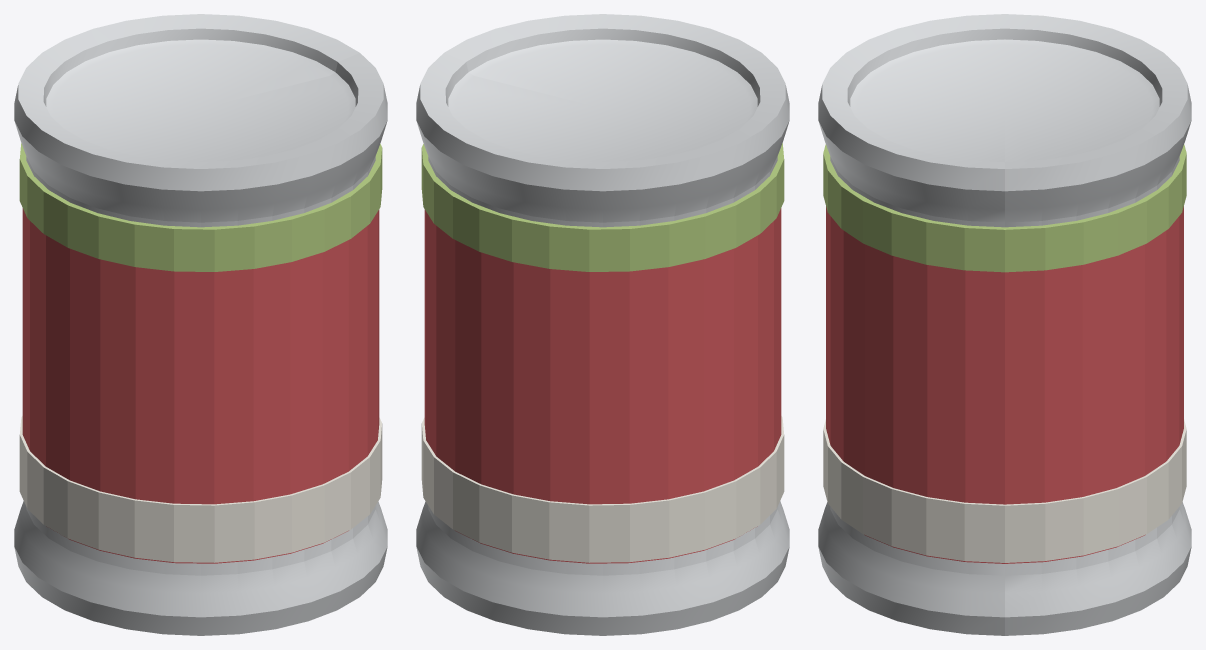
Rendered from fresh-produce-and-groceries-chopped-tomatoes-tin-33d9c94e__24432.glb.
The picture shows the model from 3 angles, left to right: view 1: azimuth 30°, elevation 25°; view 2: azimuth 150°, elevation 25°; view 3: azimuth 270°, elevation 25°; orthographic projection.
Visible parts, largest first — view 1: chopped-tomatoes-tin; view 2: chopped-tomatoes-tin; view 3: chopped-tomatoes-tin.
Part boxes in pixels (x1=…): chopped-tomatoes-tin: x1=14, y1=14, x2=387, y2=635; chopped-tomatoes-tin: x1=416, y1=14, x2=789, y2=635; chopped-tomatoes-tin: x1=818, y1=14, x2=1191, y2=635.
Bounding box in the file's own units: 0.0802 × 0.11 × 0.0798.
